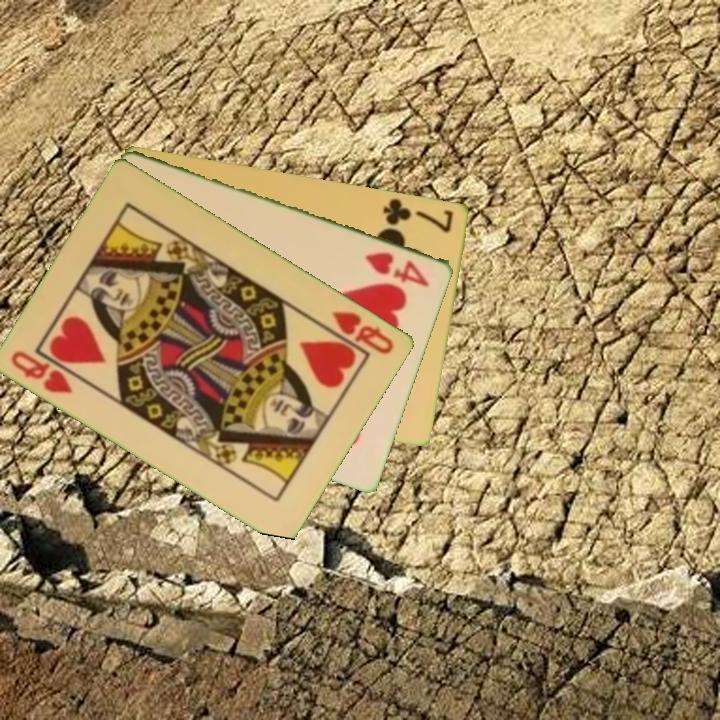4h: (362, 248, 433, 290)
7c: (380, 194, 457, 235)
Qh: (328, 307, 398, 358), (8, 346, 76, 397)
